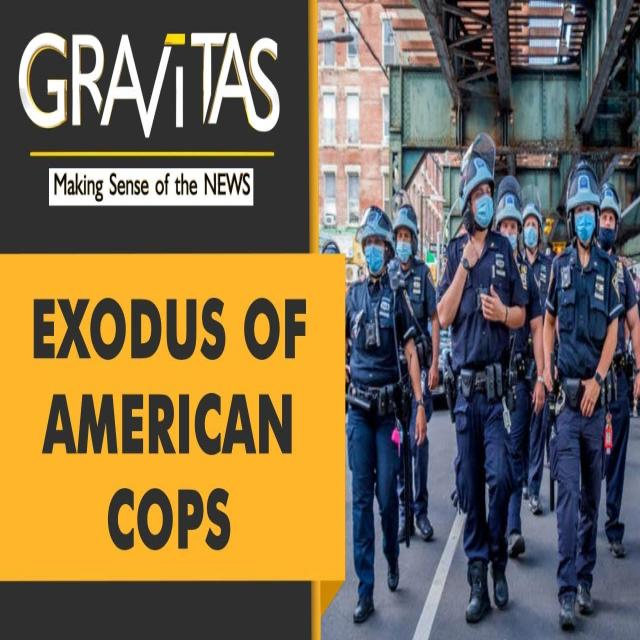police: (438, 139, 530, 622), (332, 194, 428, 615), (544, 124, 623, 633)
